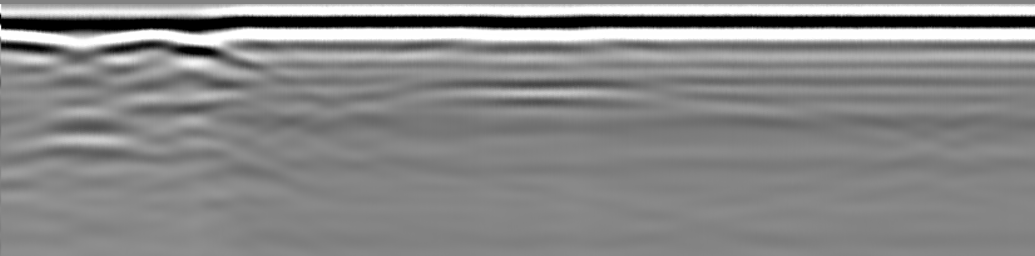steel: (76, 30, 238, 67)
